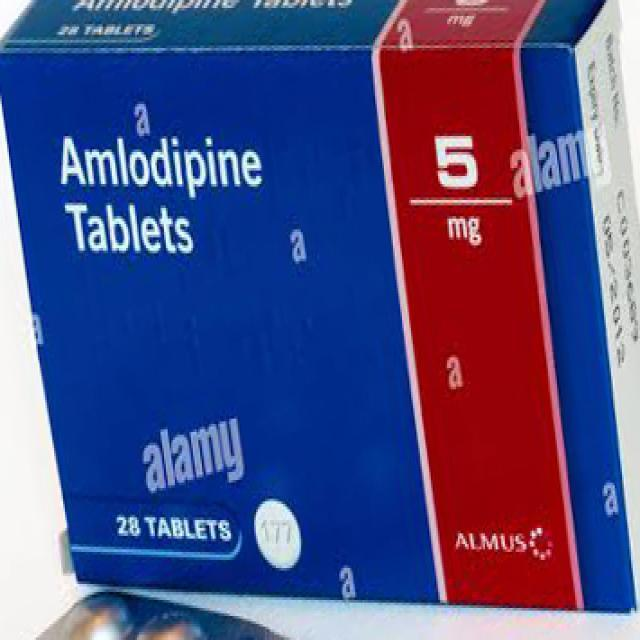drug-name: (53, 132, 267, 202)
